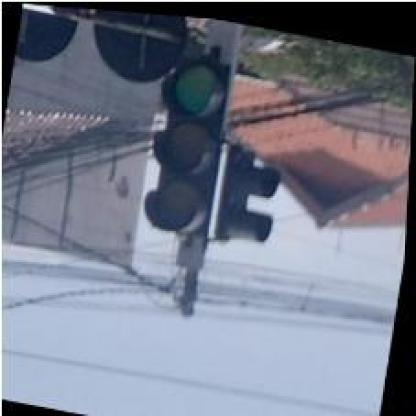green: (139, 48, 235, 235)
